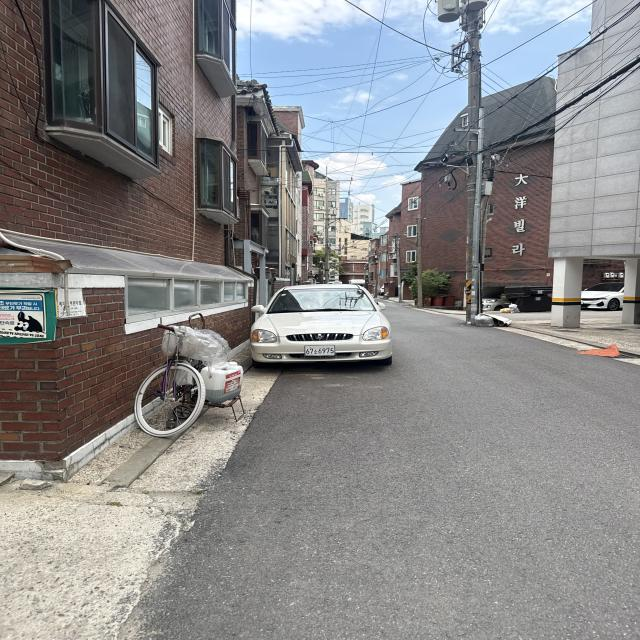bicycle: (121, 303, 247, 435)
car: (235, 278, 426, 379)
